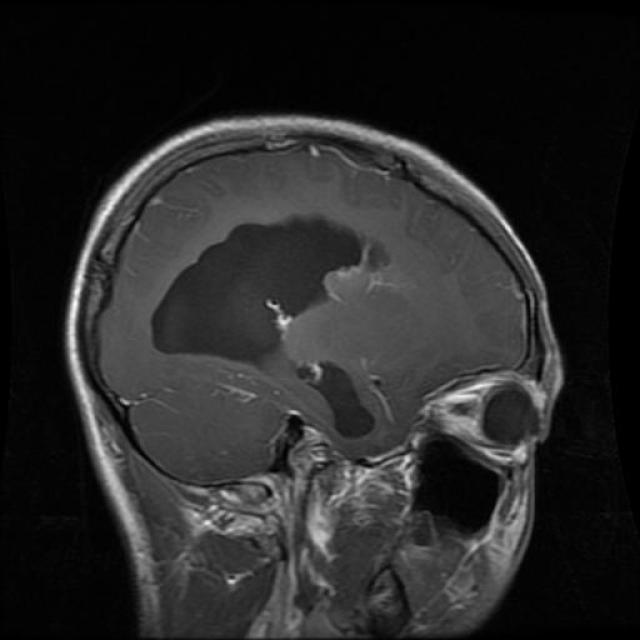glioma: (155, 203, 370, 374)
